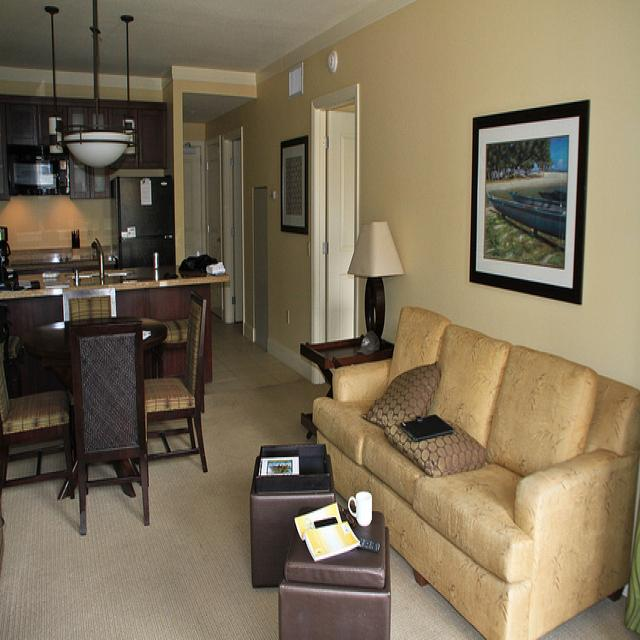chair: (65, 321, 151, 545), (0, 332, 72, 519), (144, 289, 208, 473), (61, 283, 119, 319)
dining table: (22, 286, 167, 378)
